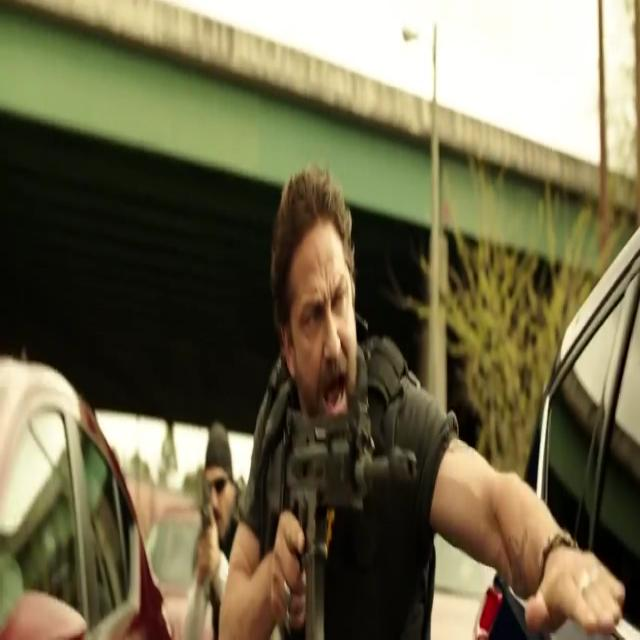Weapon: (271, 406, 409, 629), (194, 499, 226, 550)
